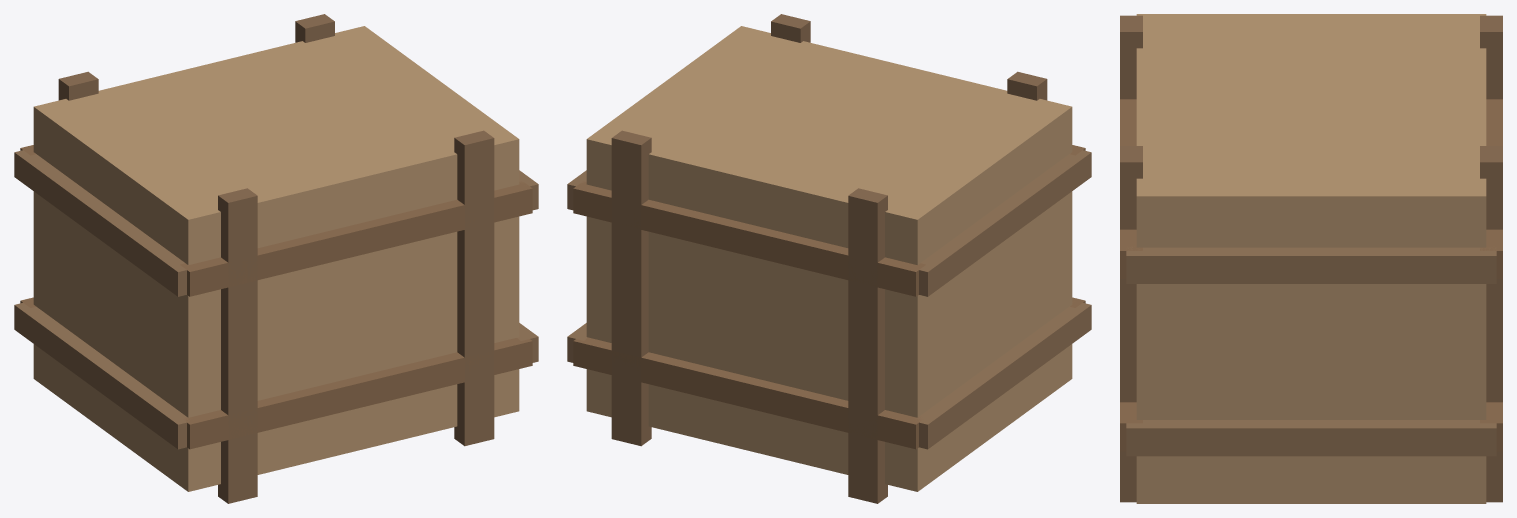
File: cargo_crate.glb
The picture shows the model from 3 angles, left to right: view 1: azimuth 30°, elevation 25°; view 2: azimuth 150°, elevation 25°; view 3: azimuth 270°, elevation 25°; orthographic projection. The views are drawn at different scales.
Visible parts, largest first — view 1: Holzkiste, StrebeV_3, StrebeV_2, StrebeH_2, StrebeH_3, Seitenbalken, Seitenbalken_1, StrebeV, StrebeV_1; view 2: Holzkiste, StrebeV_1, StrebeV, StrebeH, StrebeH_1, Seitenbalken, Seitenbalken_1, StrebeV_2, StrebeV_3; view 3: Holzkiste, Seitenbalken_3, Seitenbalken_2, StrebeV_1, StrebeV_3, StrebeV, StrebeV_2, StrebeH_1, StrebeH_3, StrebeH, StrebeH_2.
Part boxes in pixels (x1,y1,x2,y2): Holzkiste: [33, 26, 519, 491]; StrebeV_3: [454, 130, 494, 446]; StrebeV_2: [218, 188, 257, 503]; StrebeH_2: [183, 338, 532, 449]; StrebeH_3: [180, 181, 532, 296]; Seitenbalken: [14, 303, 190, 449]; Seitenbalken_1: [14, 150, 186, 296]; StrebeV: [58, 71, 98, 100]; StrebeV_1: [295, 14, 334, 42]; Holzkiste: [586, 26, 1072, 491]; StrebeV_1: [611, 130, 651, 446]; StrebeV: [848, 188, 887, 503]; StrebeH: [573, 337, 921, 449]; StrebeH_1: [573, 181, 925, 296]; Seitenbalken: [914, 301, 1091, 449]; Seitenbalken_1: [919, 150, 1091, 296]; StrebeV_2: [1007, 71, 1047, 100]; StrebeV_3: [771, 14, 810, 42]; Holzkiste: [1136, 14, 1486, 503]; Seitenbalken_3: [1126, 246, 1496, 283]; Seitenbalken_2: [1126, 420, 1496, 456]; StrebeV_1: [1480, 146, 1502, 502]; StrebeV_3: [1120, 146, 1142, 502]; StrebeV: [1480, 15, 1502, 99]; StrebeV_2: [1120, 15, 1142, 99]; StrebeH_1: [1480, 99, 1502, 278]; StrebeH_3: [1120, 99, 1142, 278]; StrebeH: [1480, 402, 1502, 451]; StrebeH_2: [1120, 402, 1142, 451].
Size of the model in its own units: 0.915 by 0.73 by 0.745.
